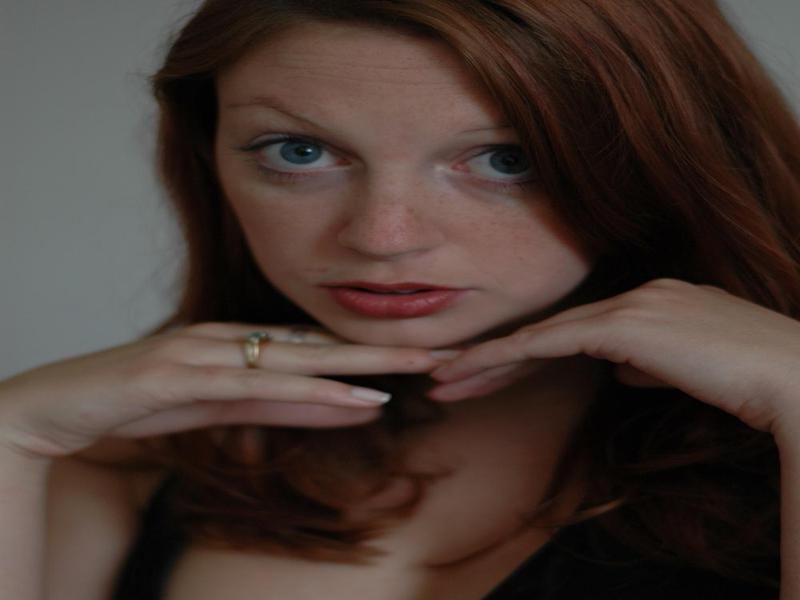person: (16, 11, 800, 600)
